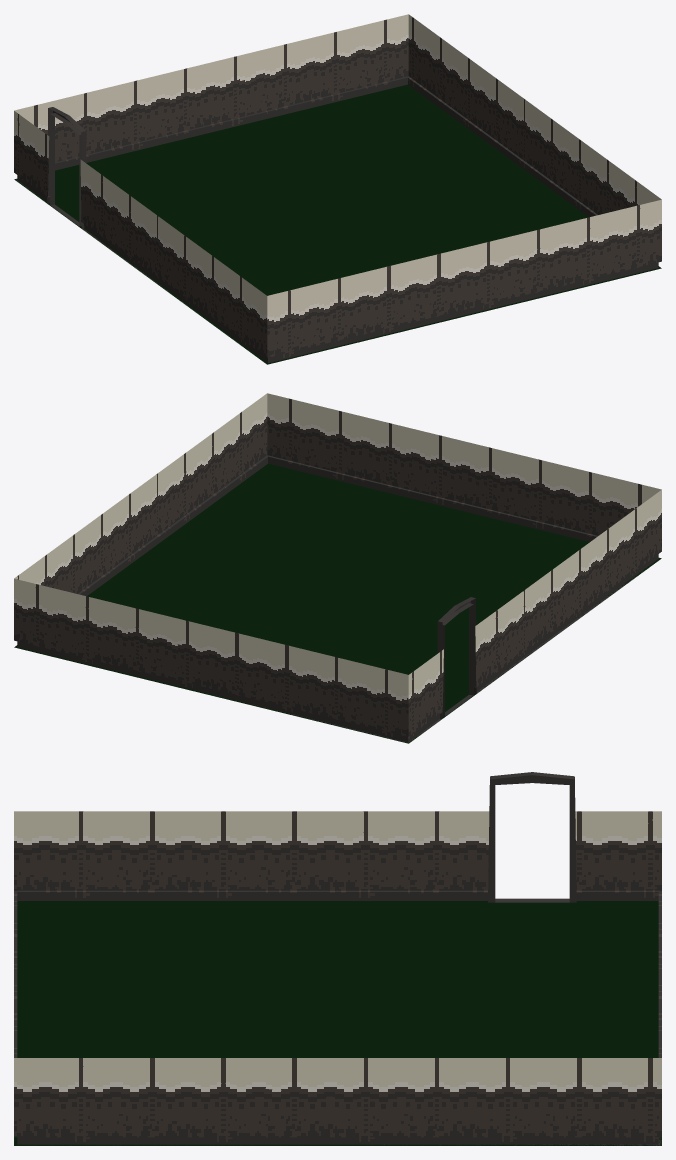
File: Study.obj
3 renders of one model, top to bottom at view 1: azimuth 30°, elevation 25°; view 2: azimuth 150°, elevation 25°; view 3: azimuth 270°, elevation 25°, orthographic. The views are drawn at different scales.
Visible parts, largest first — view 1: Study_Plane.012; view 2: Study_Plane.012; view 3: Study_Plane.012.
Boxes of the visible parts, <box> form: Study_Plane.012: <box>14,14,661,364</box>; Study_Plane.012: <box>14,393,661,743</box>; Study_Plane.012: <box>14,772,661,1145</box>.
Size of the model in its own units: 9 by 2.17 by 10.
